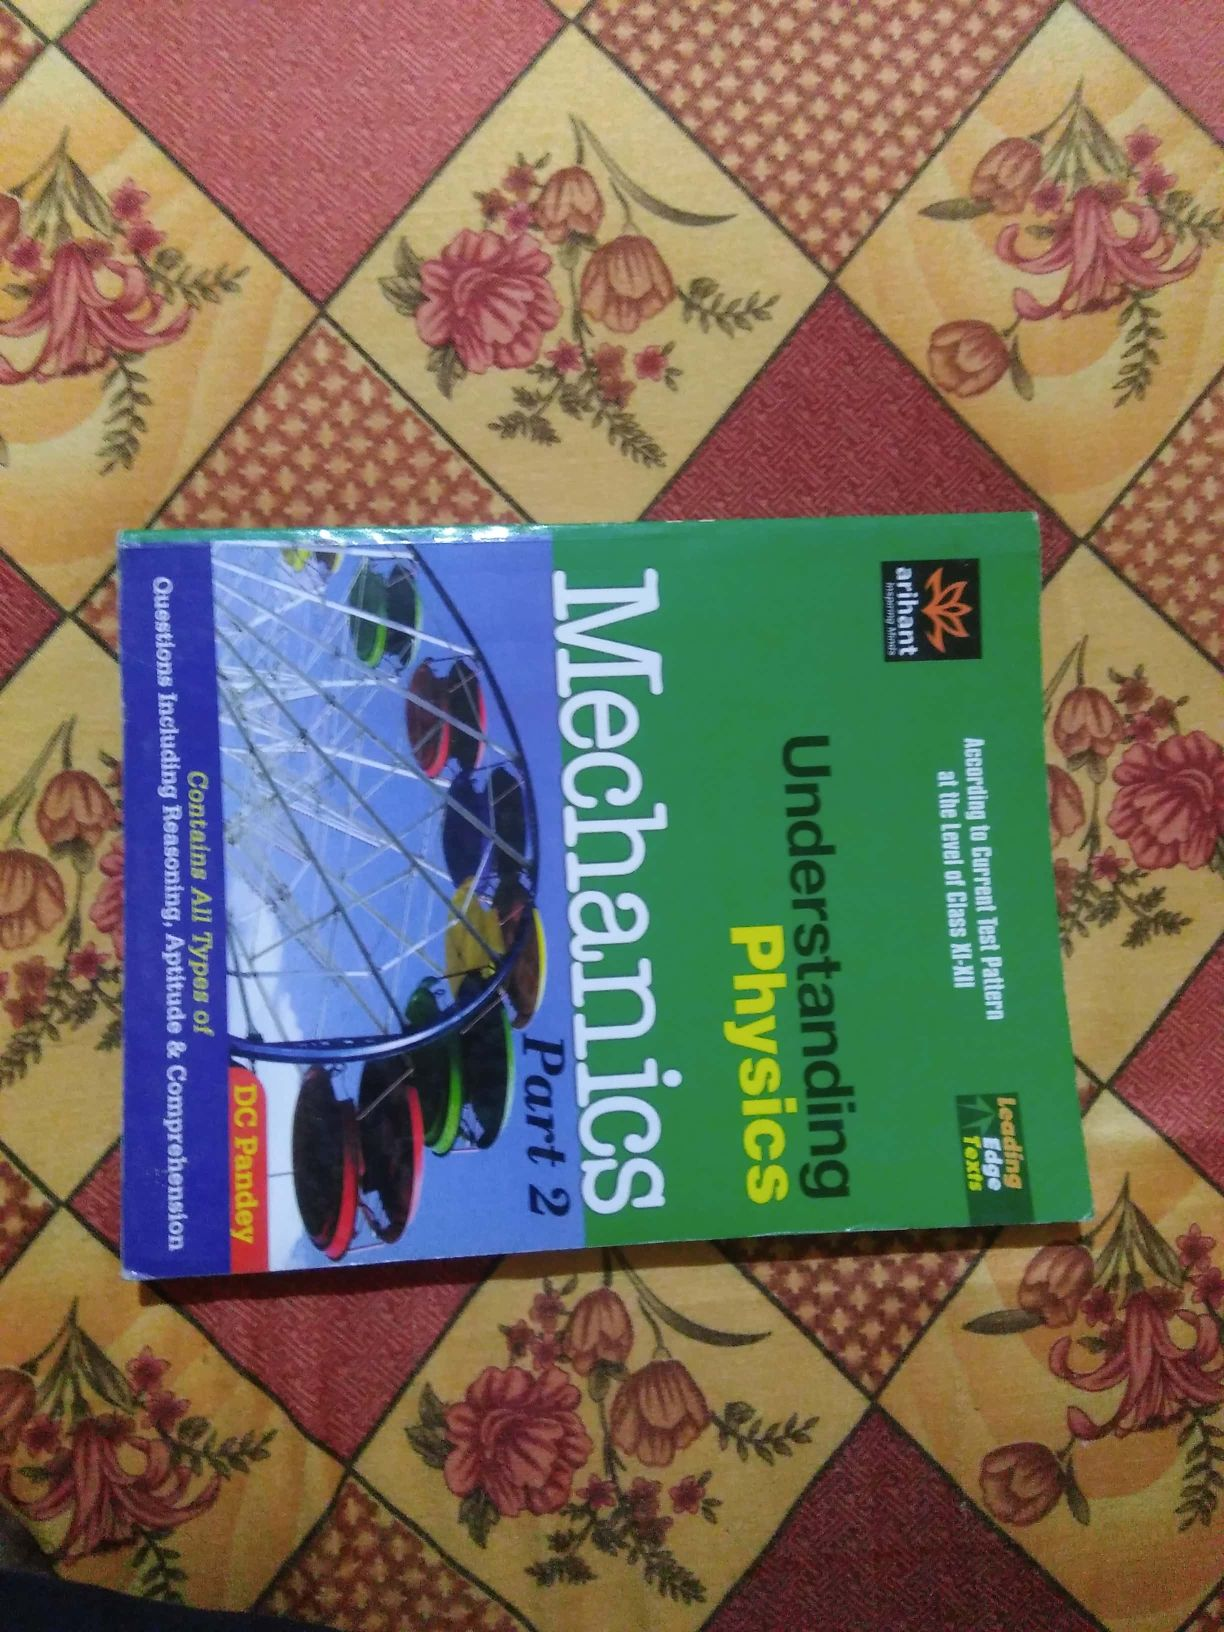mechanics: (54, 470, 1187, 1309)
